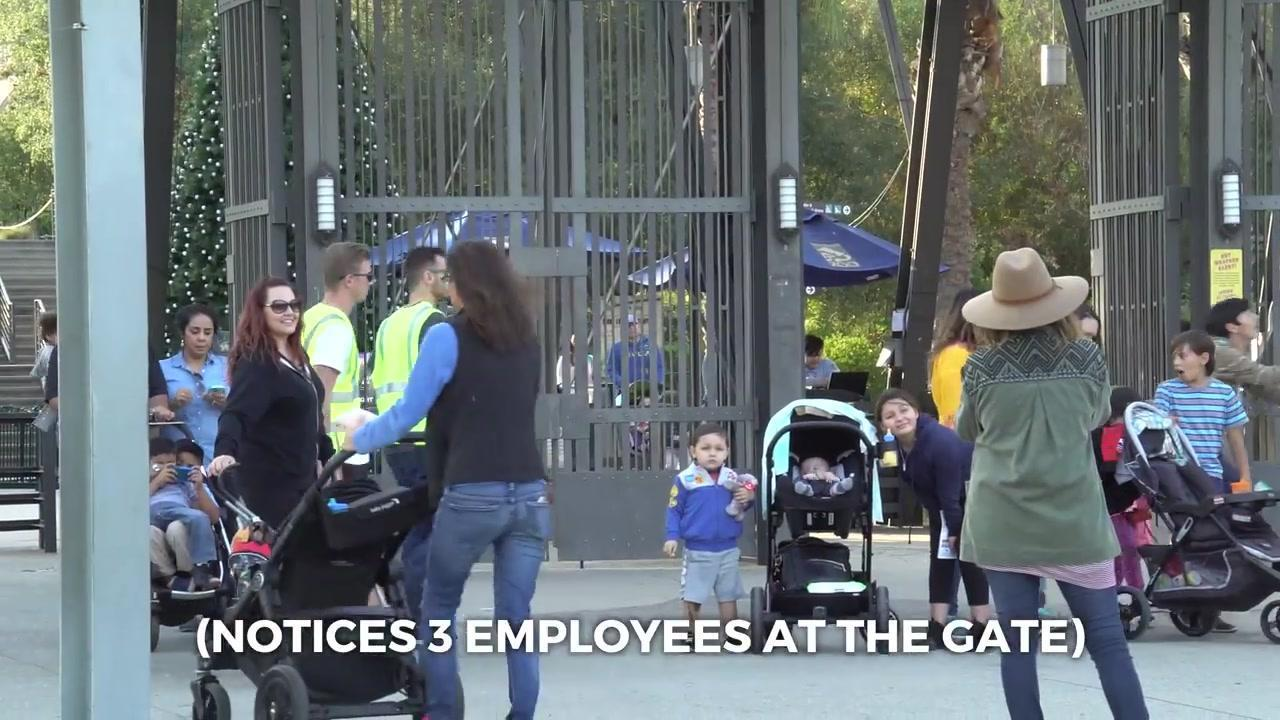vest: (370, 303, 448, 445), (298, 300, 359, 452)
